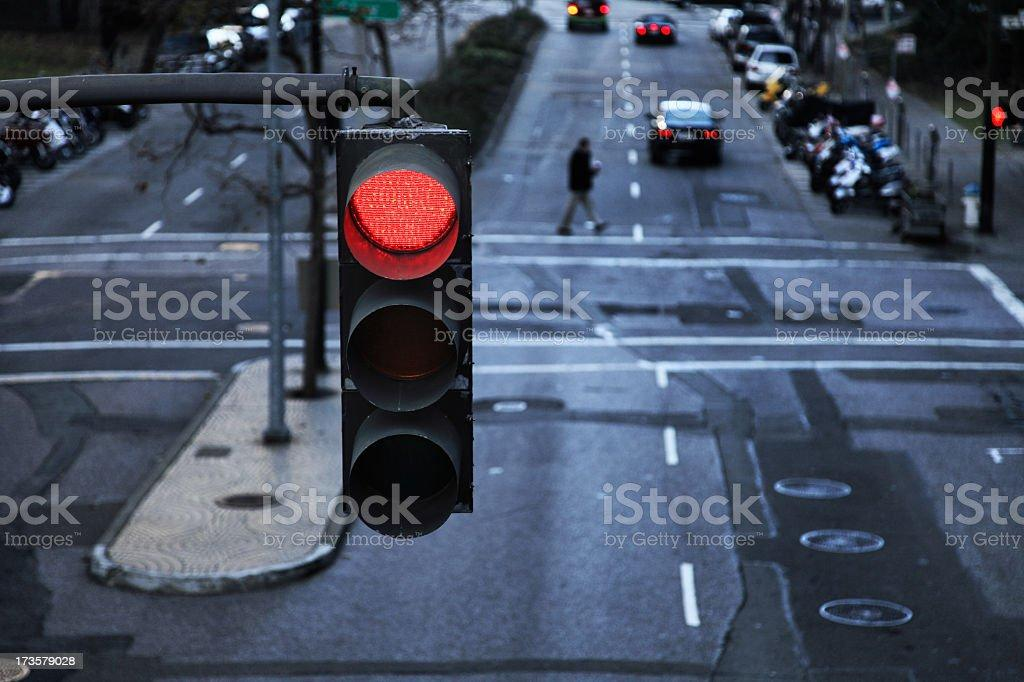red: (317, 122, 507, 528)
